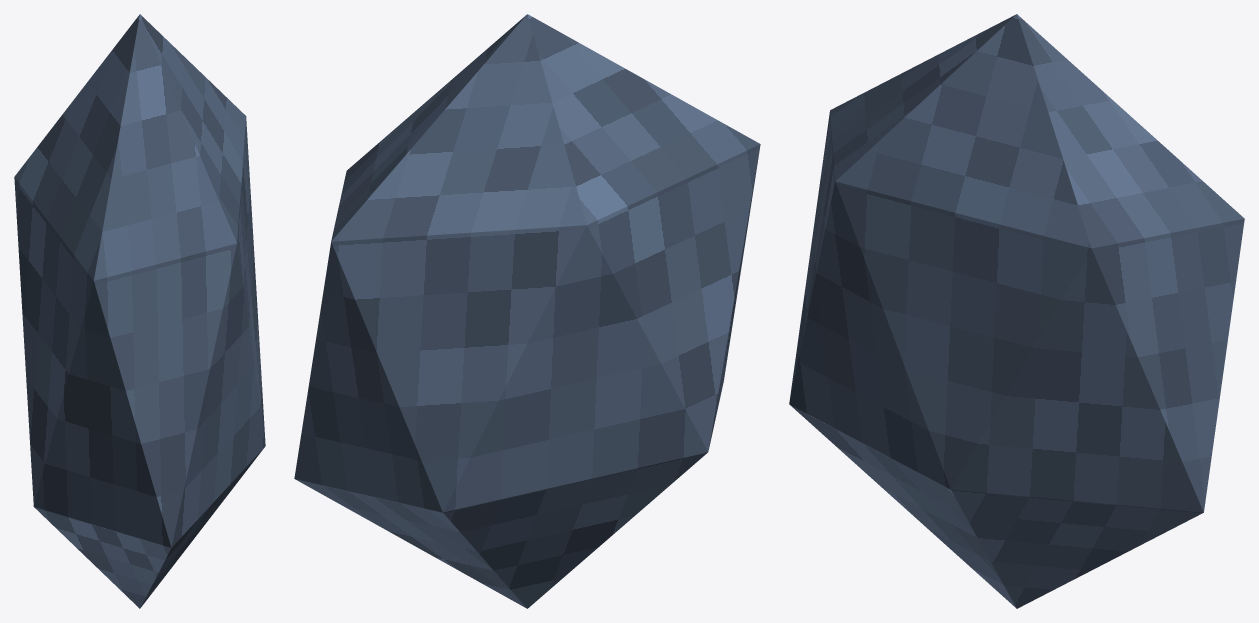
File: rock_41.glb
3 renders of one model, left to right at view 1: azimuth 30°, elevation 25°; view 2: azimuth 150°, elevation 25°; view 3: azimuth 270°, elevation 25°, orthographic.
Parts seen in each view (by area): view 1: WeatheredStone; view 2: WeatheredStone; view 3: WeatheredStone.
Part boxes in pixels (x1,y1,x2,y2): WeatheredStone: (14, 14, 265, 608); WeatheredStone: (294, 14, 760, 608); WeatheredStone: (789, 14, 1244, 608).
Bounding box in the file's own units: 1.4 × 2.77 × 1.92.
Materials: 1 (1 with a texture image).
